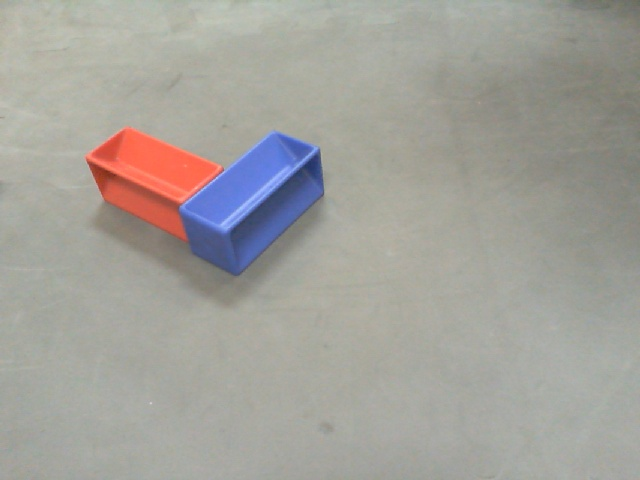BlueSample: (177, 133, 322, 276)
RedSample: (83, 120, 227, 240)
